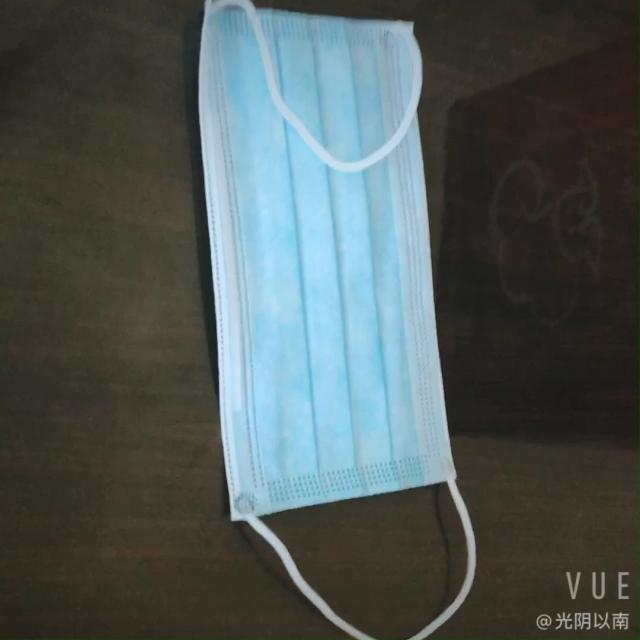non-organic waste: (184, 1, 474, 534)
